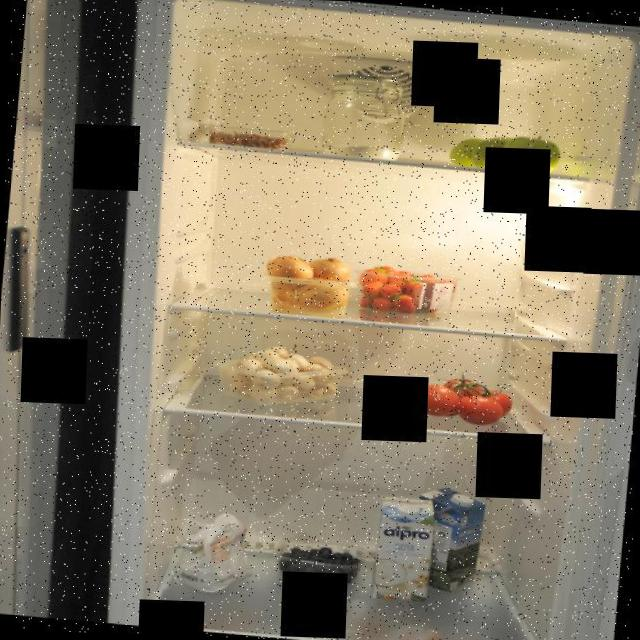Cebolla: (264, 250, 352, 318)
Champiñones: (208, 340, 350, 410)
Gambas/Langostinos: (205, 122, 296, 156)
Leche: (412, 482, 486, 596), (370, 493, 440, 606)
Manzana: (446, 123, 564, 178)
Tomate: (410, 368, 519, 431)
blueberries: (272, 534, 366, 586)
flour: (310, 68, 416, 165), (162, 507, 260, 599)
strawberries: (356, 264, 462, 318)
